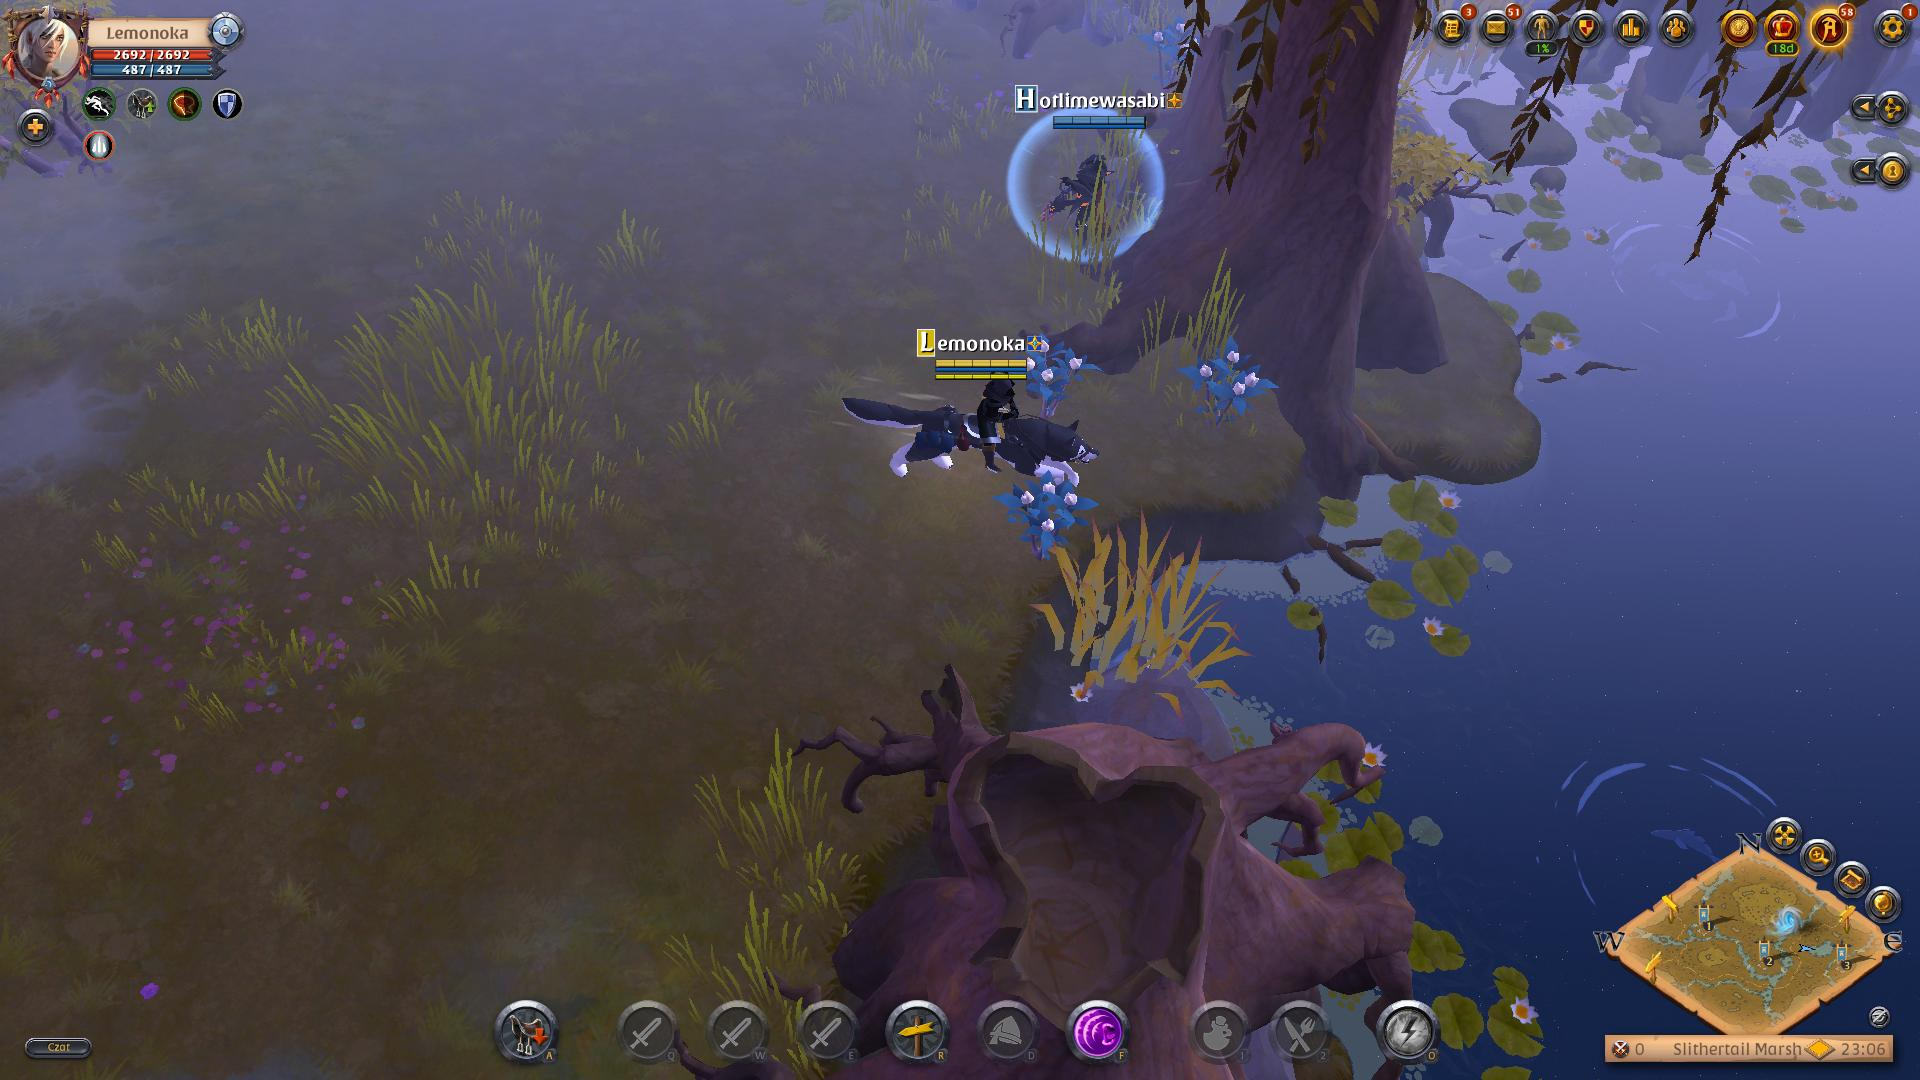fiber tier 4: (997, 465, 1092, 567), (1189, 335, 1275, 430)
fish: (1605, 208, 1788, 353)
